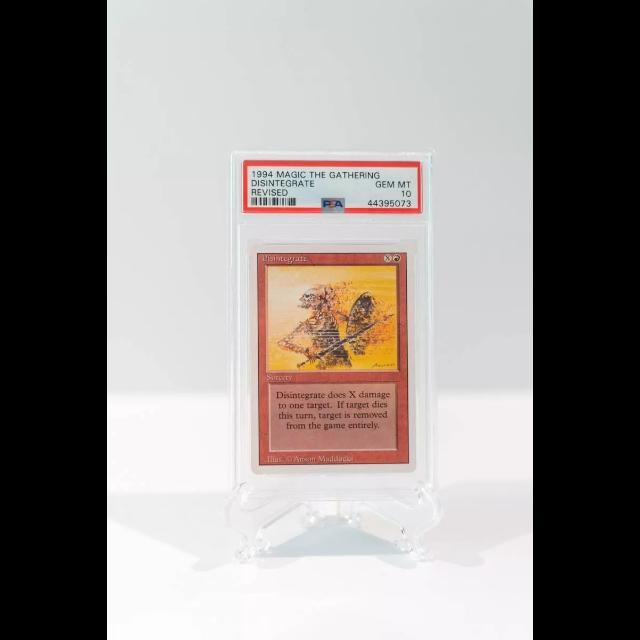card: (250, 243, 417, 476)
psa_label: (242, 159, 422, 213)
psa_slab: (228, 144, 436, 499)
